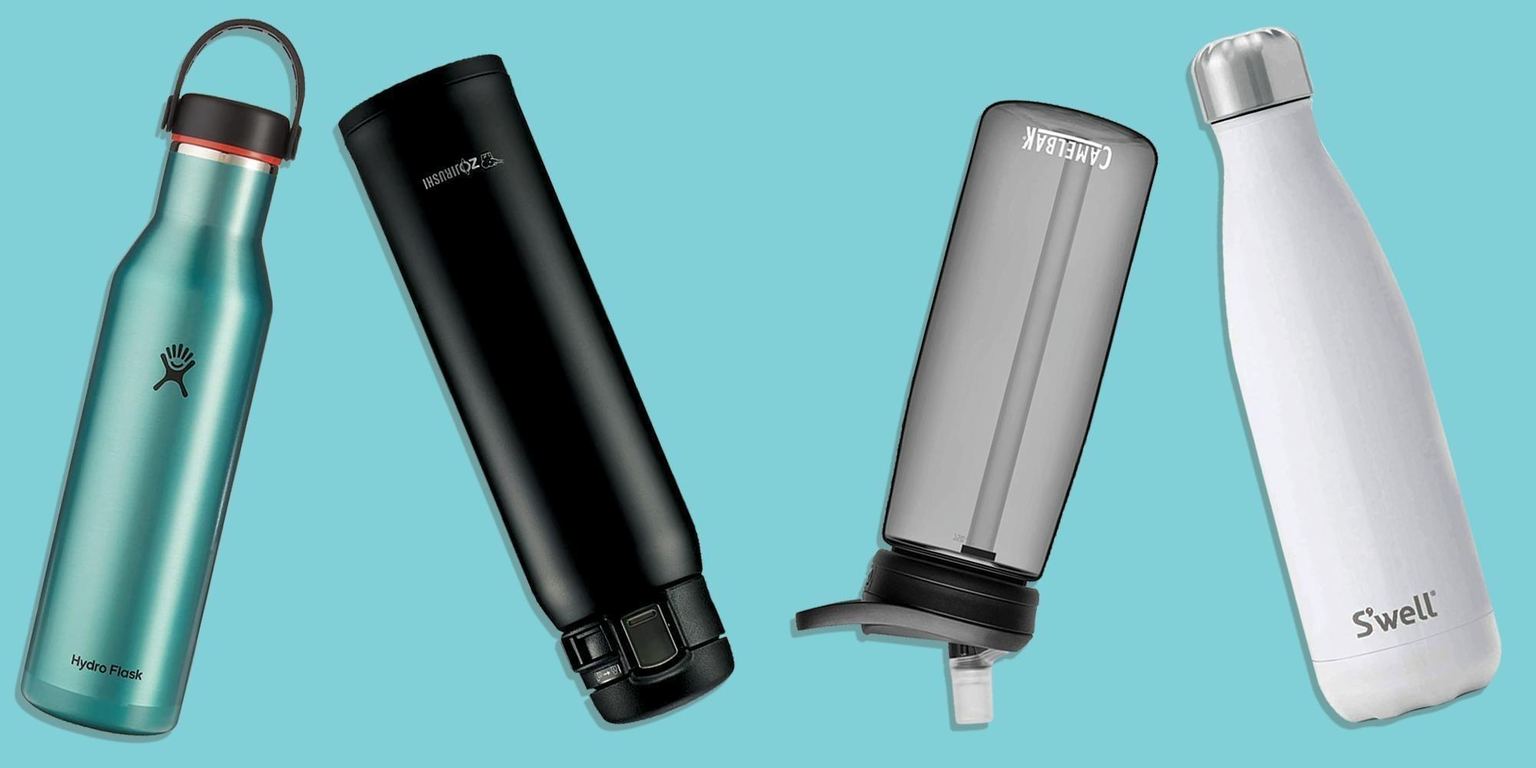gym bottle: (336, 45, 740, 730), (793, 94, 1161, 728), (1187, 22, 1507, 727), (11, 12, 309, 750)
